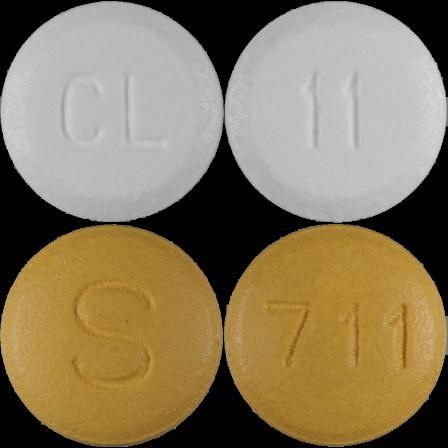63187-058: (0, 0, 224, 224)
